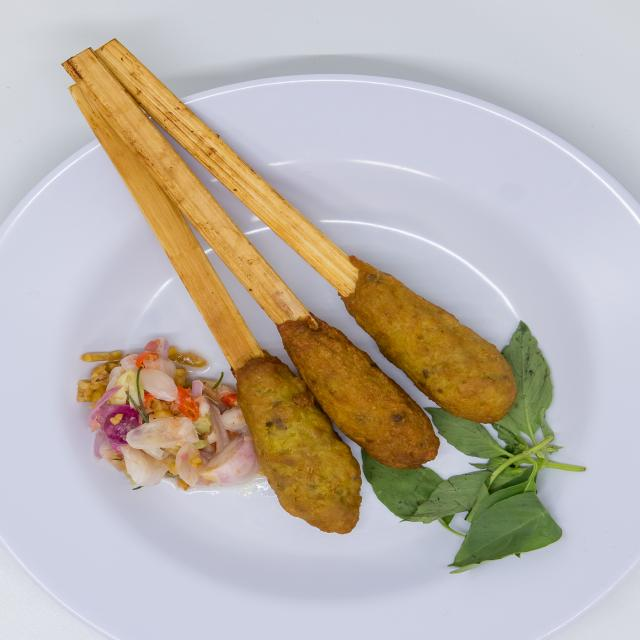Sate-Lilit: (64, 80, 578, 550)
